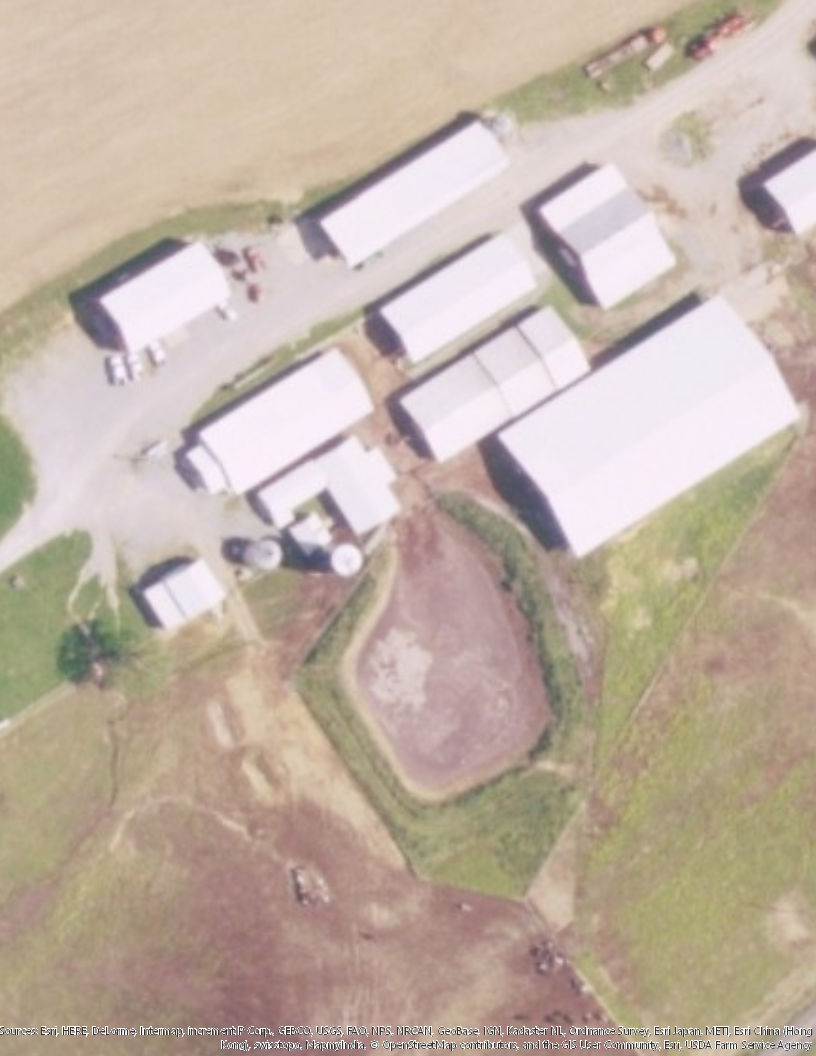cafo: (479, 287, 813, 568), (396, 289, 587, 466), (319, 115, 517, 269), (186, 348, 376, 503), (374, 227, 542, 364), (529, 162, 671, 305), (254, 431, 413, 552), (95, 235, 246, 351), (743, 148, 816, 244)
